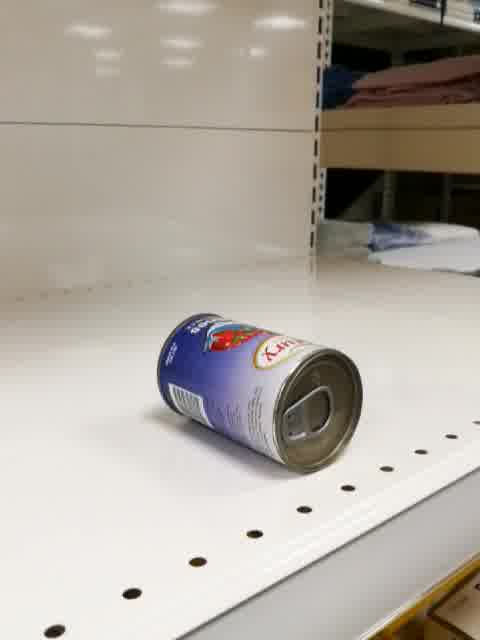sardine: (155, 312, 363, 475)
